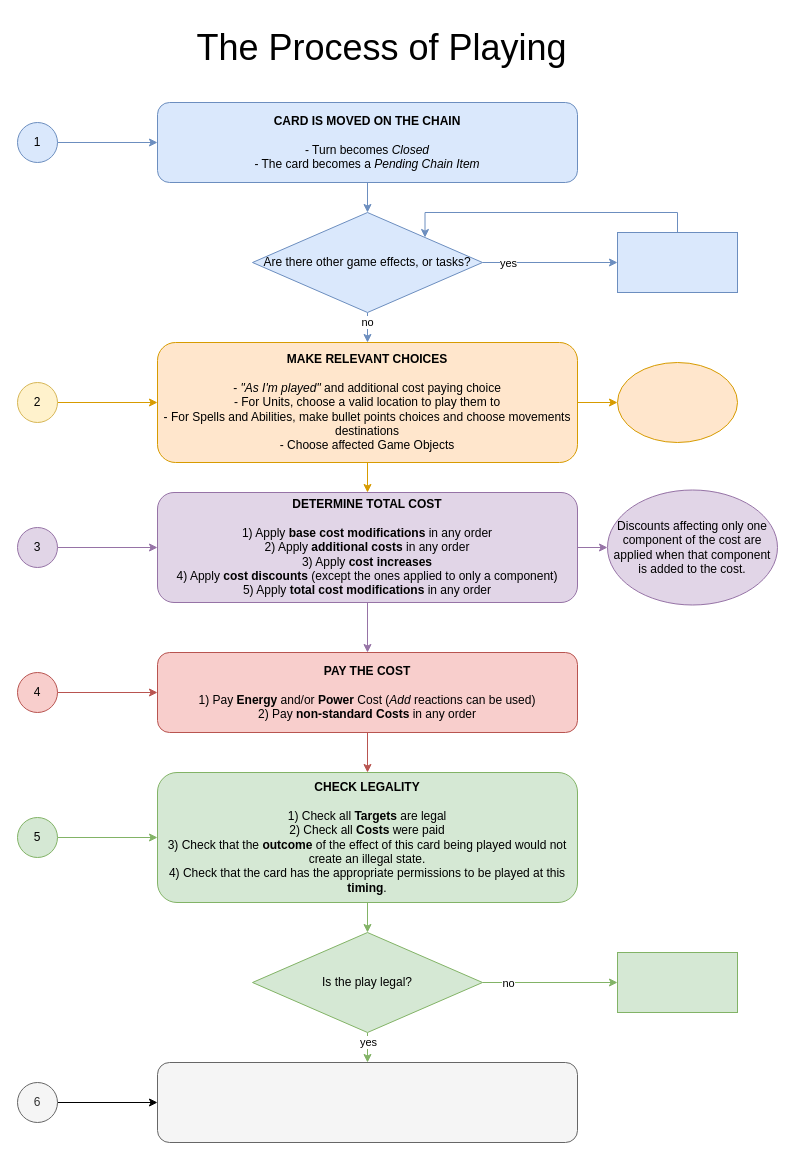
This 795x1160 diagram has some shape labels left out. The centre of each missing label's shape, as x and y in pixels:
"Cancel the process." goes at pixel 677 982.
"FINALIZE Card is now Finalized on Chain." goes at pixel 367 1102.
"Resolve them First" goes at pixel 677 262.
"Use TARGET and SPLITTING rules" goes at pixel 677 402.
